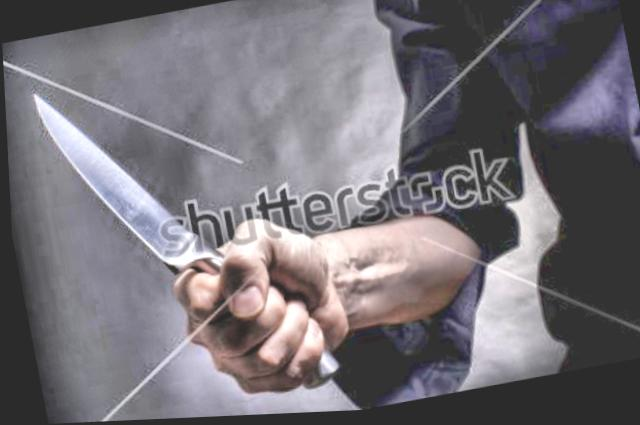knife: (20, 42, 308, 373)
